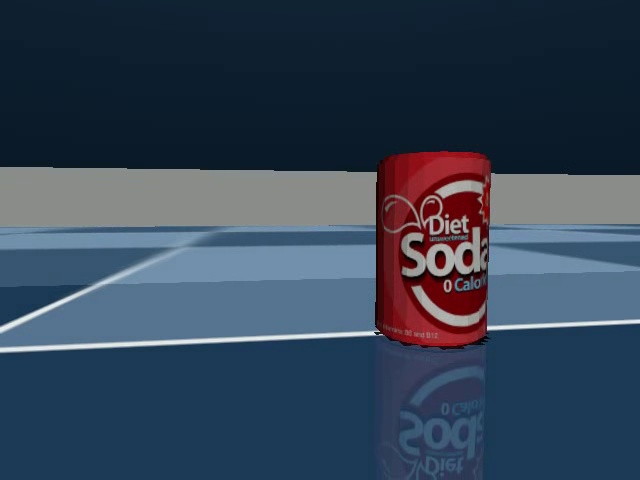can: (367, 142, 503, 360)
